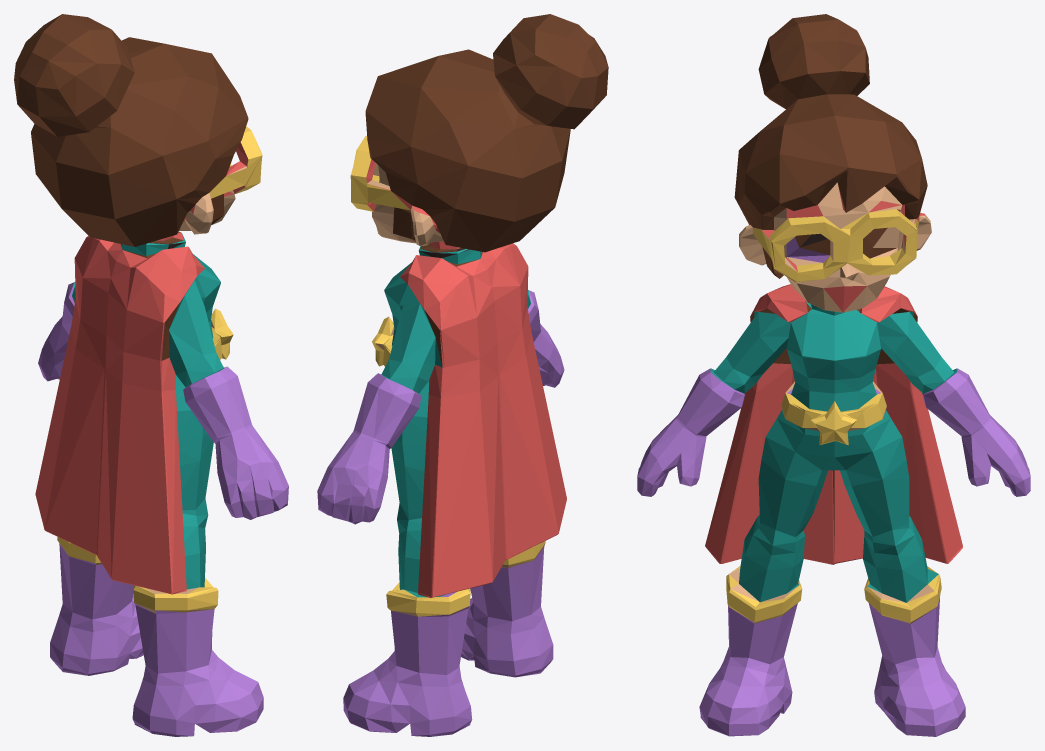
The model's file is hero.glb.
The picture shows the model from 3 angles, left to right: view 1: azimuth 30°, elevation 25°; view 2: azimuth 150°, elevation 25°; view 3: azimuth 270°, elevation 25°; orthographic projection. The views are drawn at different scales.
Visible parts, largest first — view 1: #F2635F, #6B3E26, #B57EDC, #1FA39A, #FFD45C, #E8B48A; view 2: #F2635F, #6B3E26, #B57EDC, #1FA39A, #FFD45C, #E8B48A; view 3: #1FA39A, #B57EDC, #6B3E26, #F2635F, #FFD45C, #E8B48A.
Part boxes in pixels (<box>): #F2635F: <box>35,142,248,594</box>; #6B3E26: <box>14,14,248,360</box>; #B57EDC: <box>38,282,288,736</box>; #1FA39A: <box>72,234,225,589</box>; #FFD45C: <box>57,126,262,612</box>; #E8B48A: <box>60,161,248,613</box>; #F2635F: <box>366,159,566,597</box>; #6B3E26: <box>365,14,608,394</box>; #B57EDC: <box>317,290,564,736</box>; #1FA39A: <box>381,246,530,597</box>; #FFD45C: <box>350,136,545,616</box>; #E8B48A: <box>367,163,545,616</box>; #1FA39A: <box>710,302,957,602</box>; #B57EDC: <box>637,219,1030,736</box>; #6B3E26: <box>734,14,927,584</box>; #F2635F: <box>705,184,962,564</box>; #FFD45C: <box>726,209,941,622</box>; #E8B48A: <box>729,182,934,623</box>.
Size of the model in its own units: 0.3327 by 1 by 0.546.
